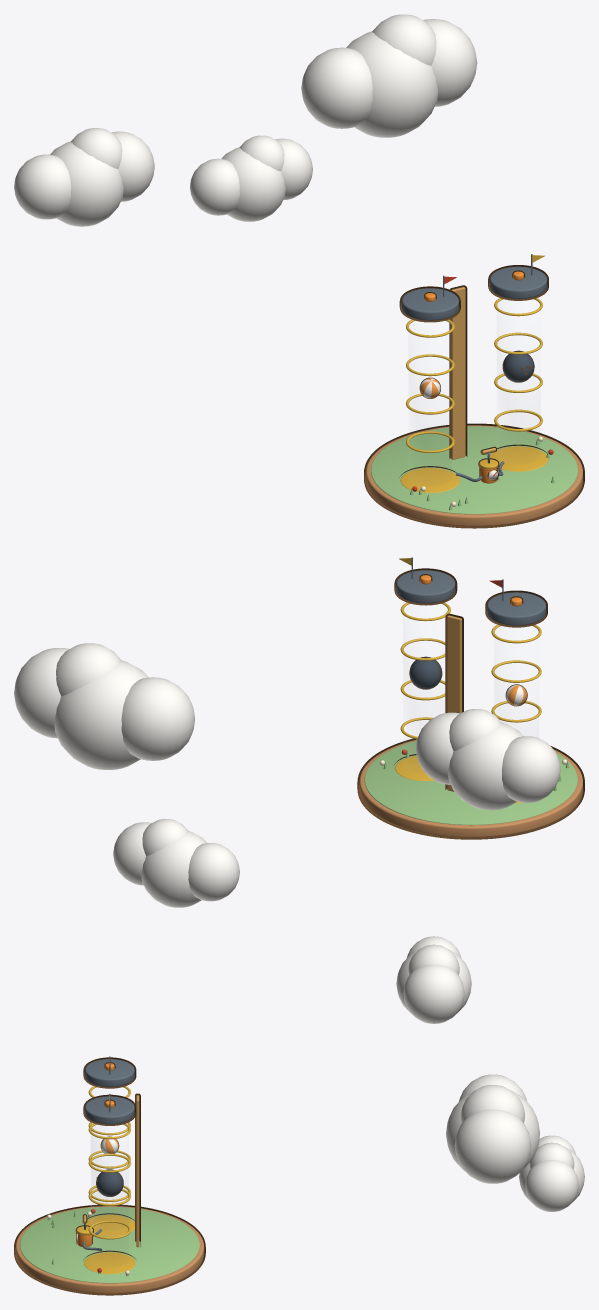
Rendered from freefall.glb.
3 views of the same model, one above another, from view 1: azimuth 30°, elevation 25°; view 2: azimuth 150°, elevation 25°; view 3: azimuth 270°, elevation 25° (orthographic). The views are drawn at different scales.
Parts seen in each view (by area): view 1: FF_PlatformGrass, FF_Cloud_1_0, FF_Cloud_1_2, FF_Platform, FF_Cloud_0_0, FF_Cloud_0_2, FF_Cloud_1_1, FF_Ruler, FF_Cloud_2_0, FF_Cloud_2_2, FF_Cloud_1_3, FF_Cloud_0_1 (+8 smaller); view 2: FF_PlatformGrass, FF_Cloud_1_0, FF_Cloud_1_2, FF_Platform, FF_Cloud_0_0, FF_Cloud_0_2, FF_Cloud_1_1, FF_Cloud_2_0, FF_Cloud_2_2, FF_Cloud_1_3, FF_Cloud_0_1, FF_Ruler (+7 smaller); view 3: FF_PlatformGrass, FF_Cloud_1_1, FF_Platform, FF_Cloud_0_1, FF_Cloud_2_1, FF_Cloud_1_3, FF_Cap_L, FF_Cap_R, FF_Cloud_1_0, FF_Pad_R, FF_Cloud_0_3, FF_Ruler (+6 smaller).
Part boxes in pixels (bbox=[...]): FF_PlatformGrass: bbox=[371, 426, 577, 514]; FF_Cloud_1_0: bbox=[346, 31, 437, 137]; FF_Cloud_1_2: bbox=[301, 47, 372, 128]; FF_Platform: bbox=[364, 423, 584, 528]; FF_Cloud_0_0: bbox=[50, 141, 123, 226]; FF_Cloud_0_2: bbox=[14, 154, 71, 219]; FF_Cloud_1_1: bbox=[423, 19, 477, 106]; FF_Ruler: bbox=[449, 285, 467, 459]; FF_Cloud_2_0: bbox=[221, 147, 285, 221]; FF_Cloud_2_2: bbox=[190, 158, 239, 215]; FF_Cloud_1_3: bbox=[372, 14, 436, 65]; FF_Cloud_0_1: bbox=[111, 131, 154, 201]; FF_PlatformGrass: bbox=[364, 741, 577, 825]; FF_Cloud_1_0: bbox=[54, 660, 148, 769]; FF_Cloud_1_2: bbox=[121, 677, 194, 760]; FF_Platform: bbox=[357, 738, 584, 839]; FF_Cloud_0_0: bbox=[448, 722, 523, 810]; FF_Cloud_0_2: bbox=[502, 736, 560, 802]; FF_Cloud_1_1: bbox=[14, 648, 69, 738]; FF_Cloud_2_0: bbox=[141, 831, 207, 907]; FF_Cloud_2_2: bbox=[188, 843, 239, 901]; FF_Cloud_1_3: bbox=[56, 643, 121, 695]; FF_Cloud_0_1: bbox=[416, 712, 459, 784]; FF_Ruler: bbox=[445, 613, 463, 791]; FF_PlatformGrass: bbox=[20, 1207, 199, 1283]; FF_Cloud_1_1: bbox=[454, 1109, 531, 1183]; FF_Platform: bbox=[14, 1204, 205, 1295]; FF_Cloud_0_1: bbox=[403, 964, 464, 1023]; FF_Cloud_2_1: bbox=[525, 1160, 578, 1211]; FF_Cloud_1_3: bbox=[461, 1085, 524, 1122]; FF_Cap_L: bbox=[83, 1057, 136, 1088]; FF_Cap_R: bbox=[83, 1094, 136, 1125]; FF_Cloud_1_0: bbox=[446, 1091, 539, 1171]; FF_Pad_R: bbox=[83, 1250, 135, 1274]; FF_Cloud_0_3: bbox=[408, 944, 459, 975]; FF_Ruler: bbox=[135, 1093, 140, 1247].
Size of the model in its own units: 33.12 by 17.36 by 38.75.
